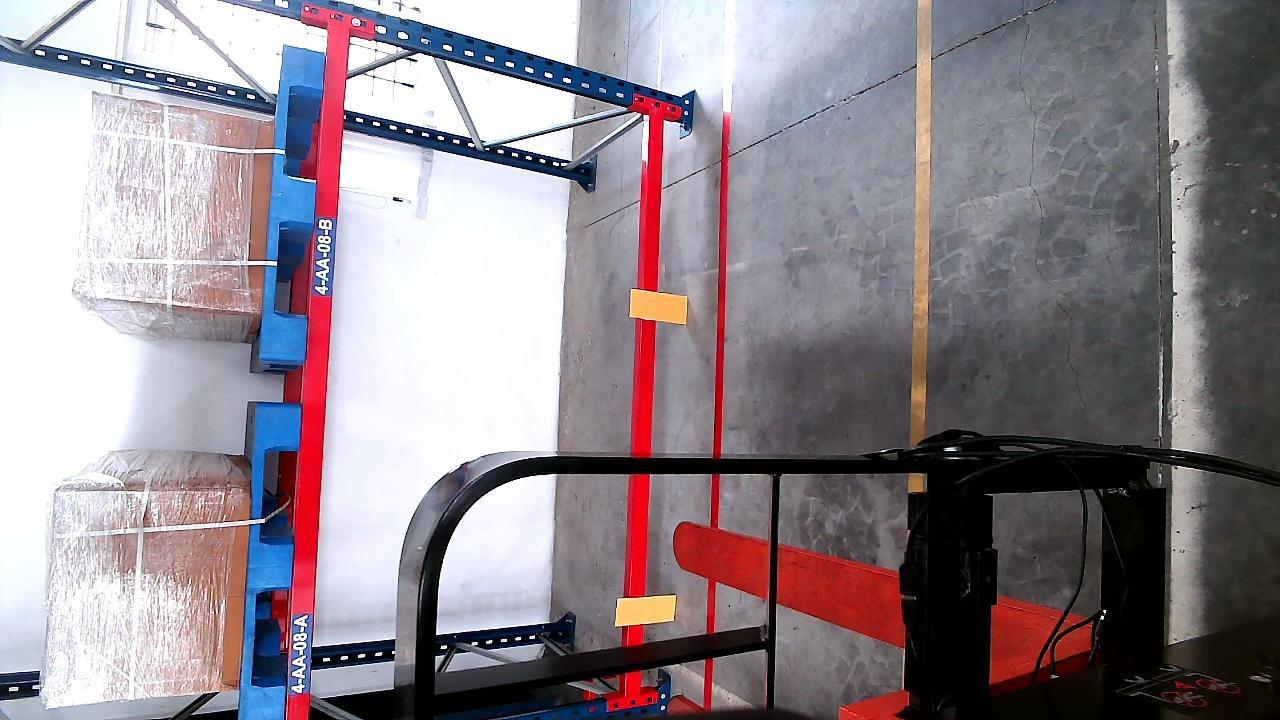red_line: (702, 1, 737, 705)
yellow_line: (910, 0, 935, 438)
